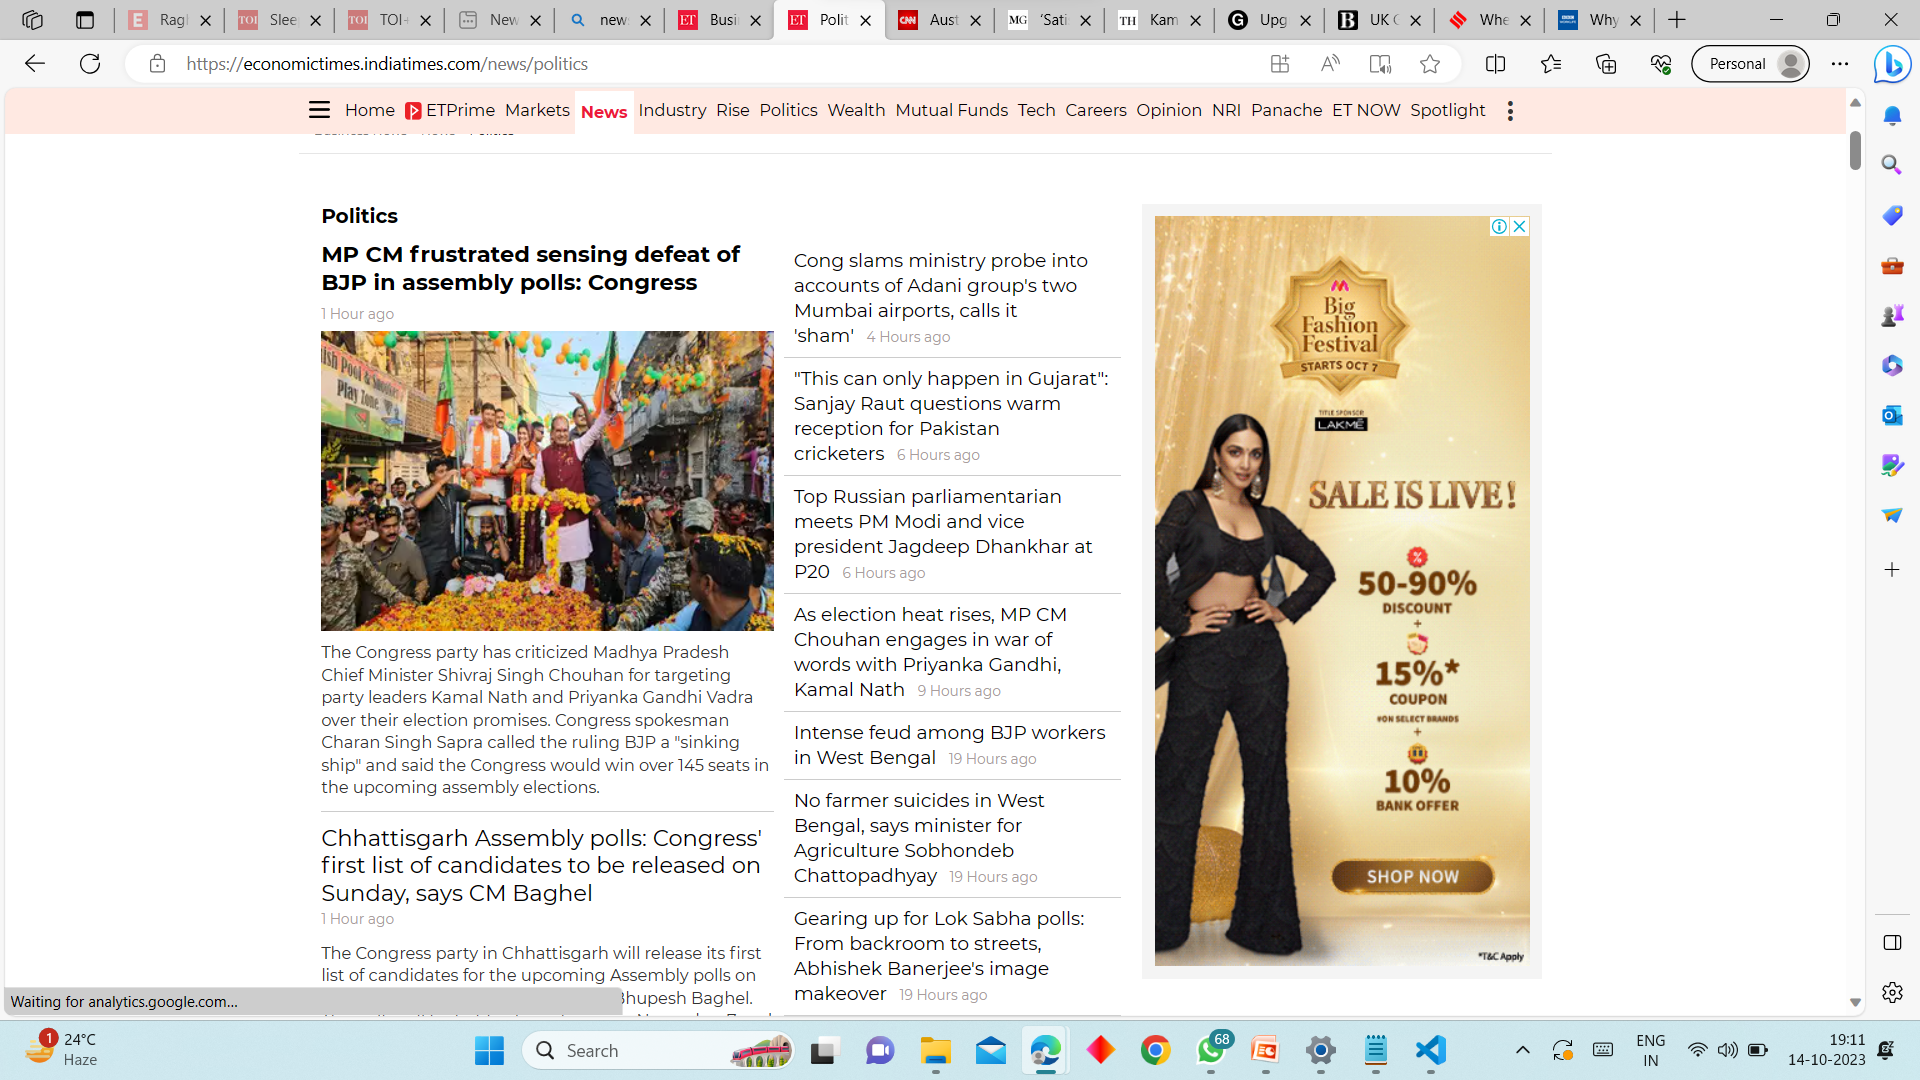Image: (1142, 212, 1565, 997)
Paragraph: (311, 644, 762, 798), (306, 916, 771, 1013), (313, 816, 785, 901), (790, 360, 1116, 473), (785, 485, 1125, 592), (791, 901, 1112, 1013), (790, 785, 1098, 899), (791, 601, 1084, 704), (794, 253, 1098, 349), (266, 244, 753, 299), (796, 716, 1112, 781), (302, 187, 456, 235)
